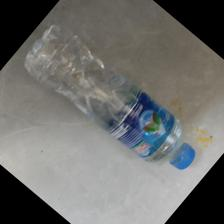Lavie: (23, 24, 205, 177)
